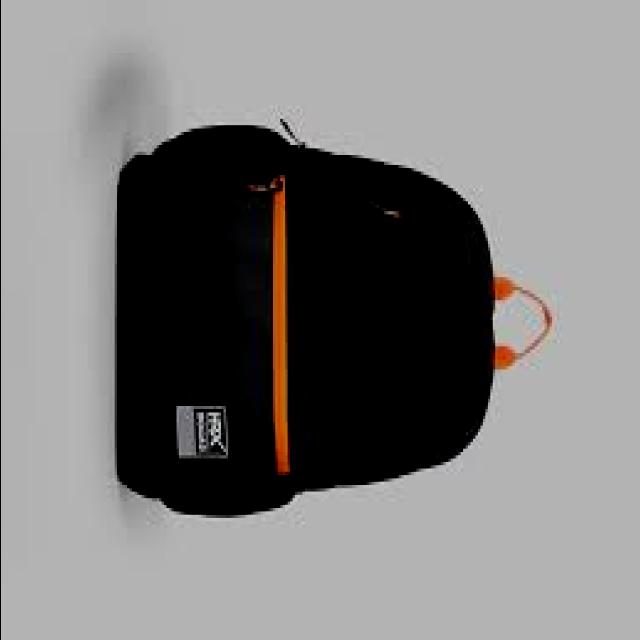backpack: (117, 120, 555, 519)
